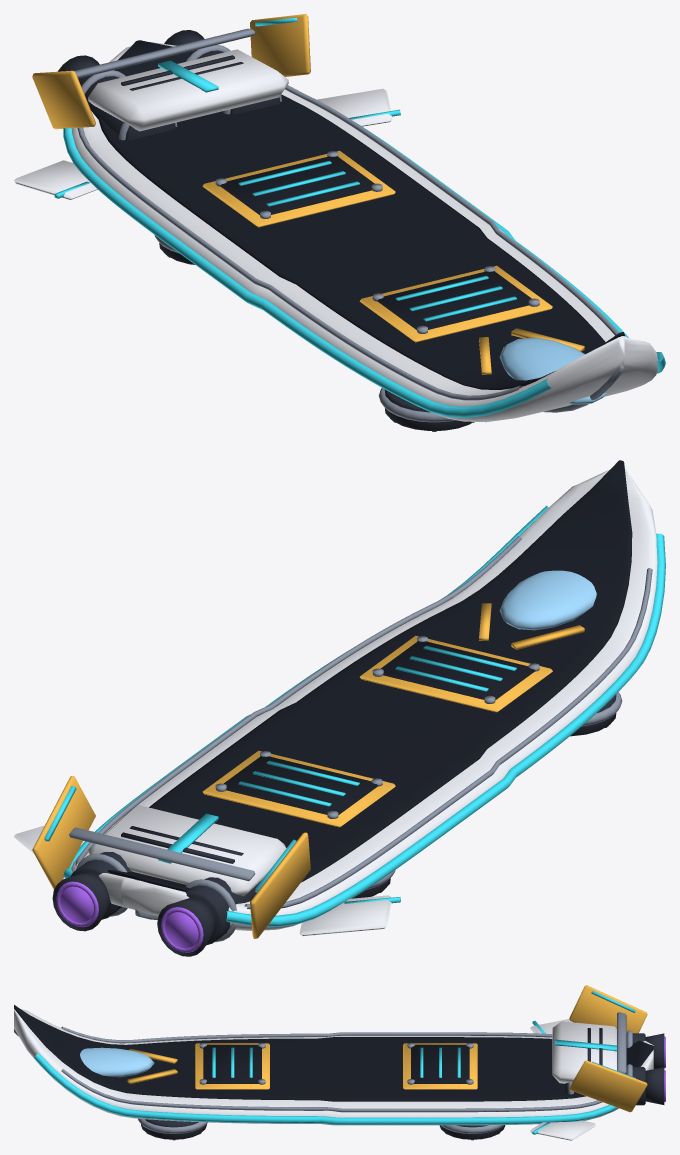
Rendered from QuasarBoard.obj.
The picture shows the model from 3 angles, top to bottom: view 1: azimuth 30°, elevation 25°; view 2: azimuth 150°, elevation 25°; view 3: azimuth 270°, elevation 25°; orthographic projection. The views are drawn at different scales.
Visible parts, largest first — view 1: QuasarBoard; view 2: QuasarBoard; view 3: QuasarBoard.
Part boxes in pixels (x1,y1,x2,y2): QuasarBoard: (14,14,665,431); QuasarBoard: (14,460,665,956); QuasarBoard: (14,985,665,1140).
Size of the model in its own units: 5.33 by 2.12 by 12.23.
1 material, 1 textured.
